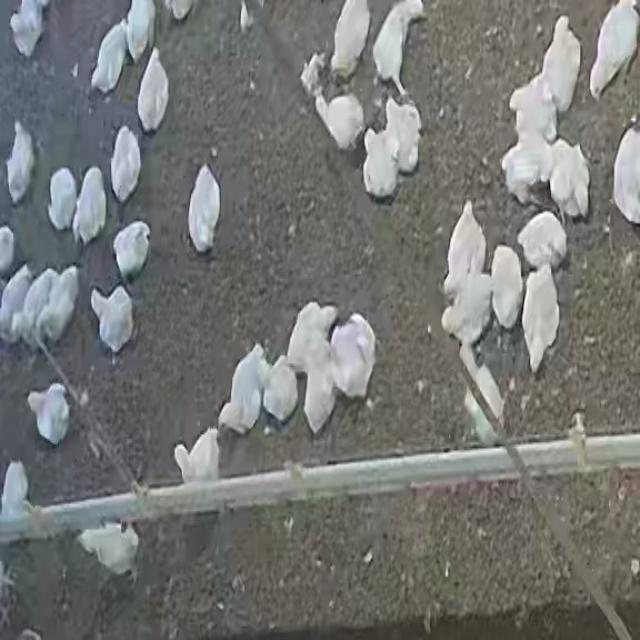chicken: (521, 266, 560, 373), (185, 159, 223, 260), (89, 283, 138, 355), (313, 88, 367, 152), (135, 47, 175, 133), (25, 380, 70, 446), (72, 168, 108, 246), (90, 23, 128, 96), (173, 429, 220, 487), (111, 216, 152, 282), (5, 121, 36, 203), (110, 126, 142, 202), (47, 165, 78, 231)
